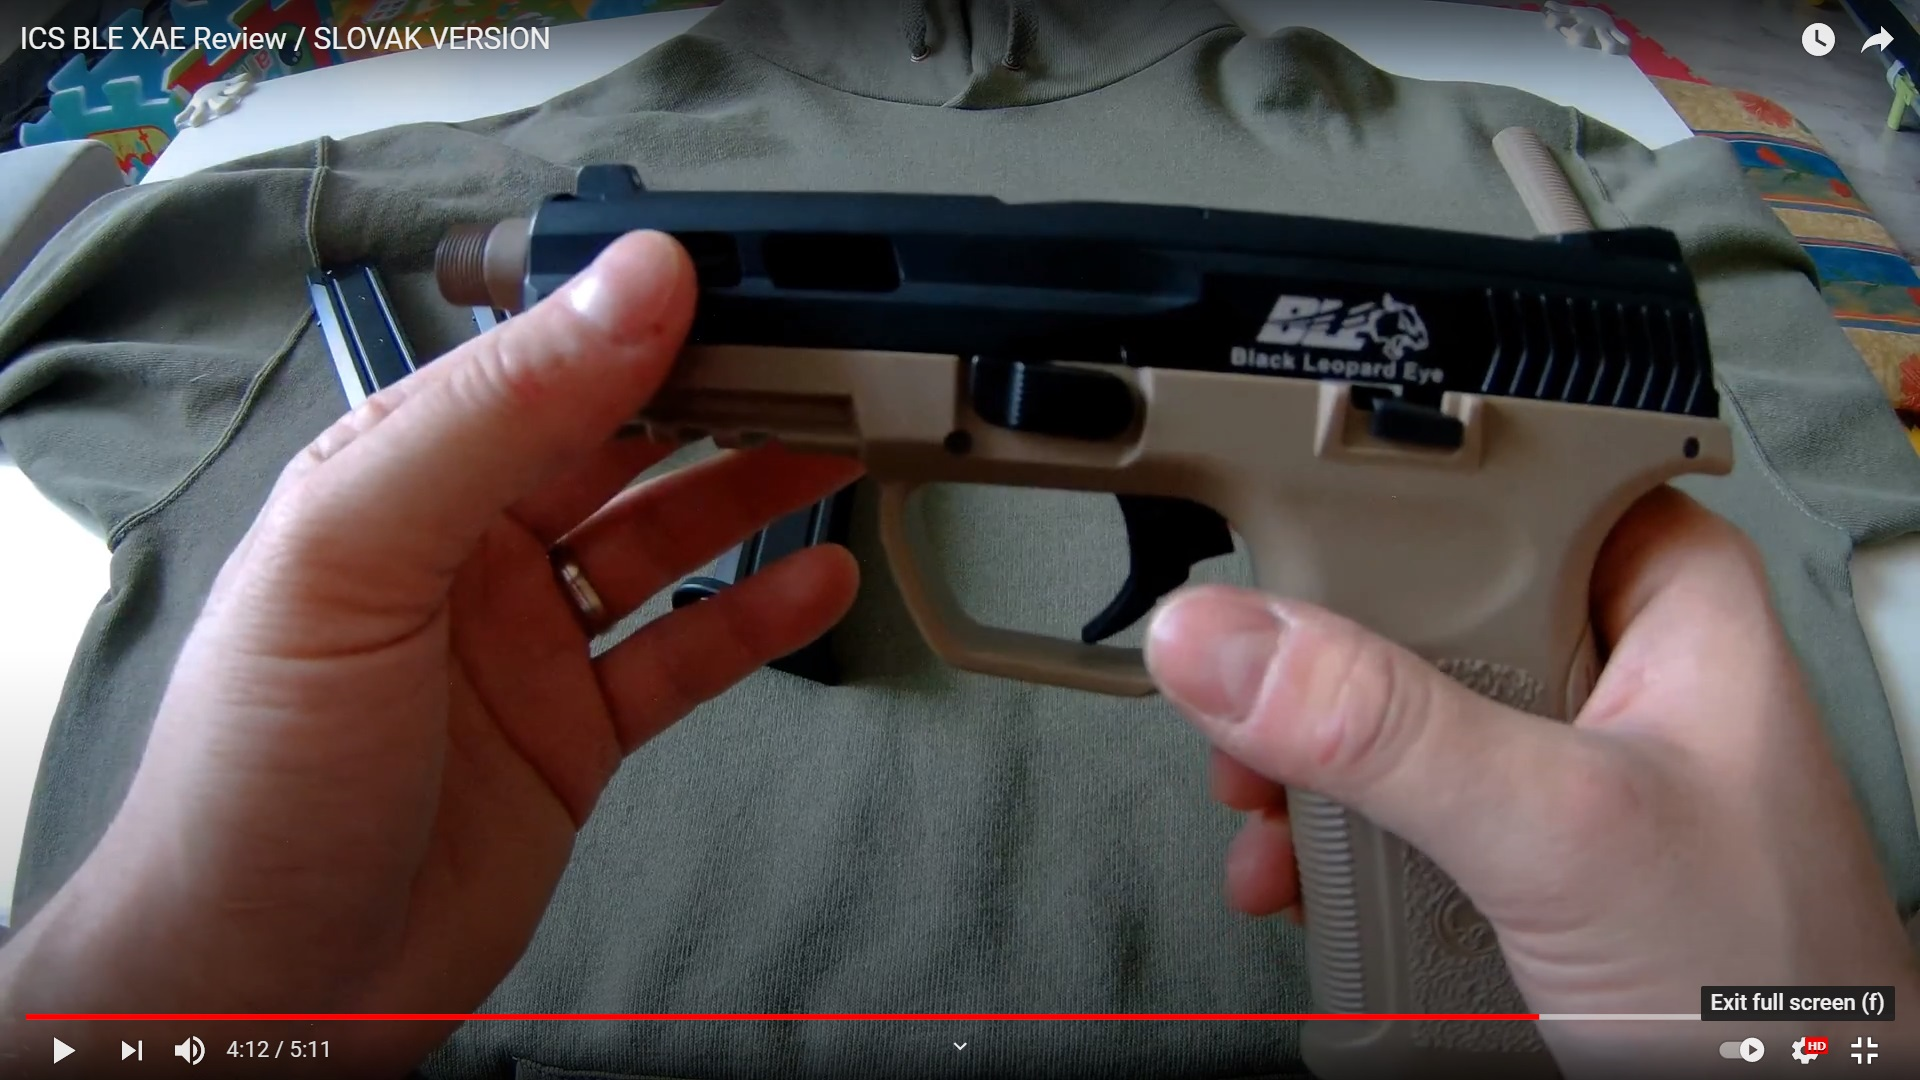asg_ics_ble_xae: (429, 162, 1702, 1005)
